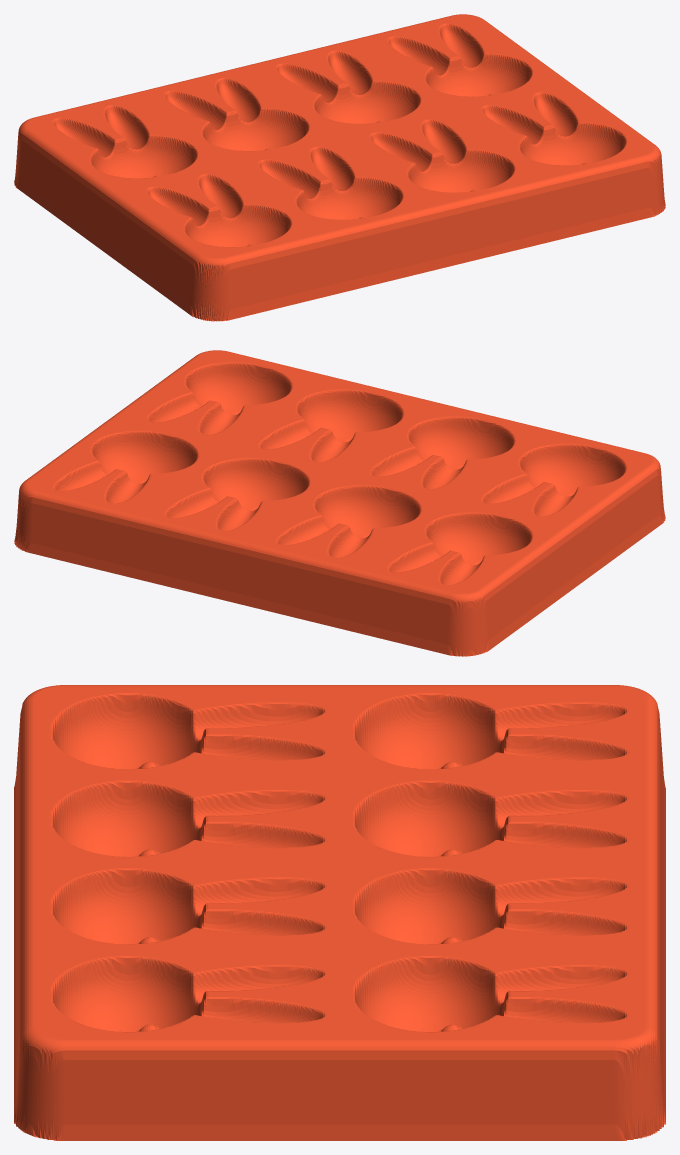
File: mold.glb
3 renders of one model, top to bottom at view 1: azimuth 30°, elevation 25°; view 2: azimuth 150°, elevation 25°; view 3: azimuth 270°, elevation 25°, orthographic. The views are drawn at different scales.
Visible parts, largest first — view 1: geometry_0; view 2: geometry_0; view 3: geometry_0.
Part boxes in pixels (x1,y1,x2,y2): geometry_0: (14, 14, 665, 321); geometry_0: (14, 350, 665, 656); geometry_0: (14, 685, 665, 1140).
Size of the model in its own units: 0.1579 by 0.0185 by 0.1175.
